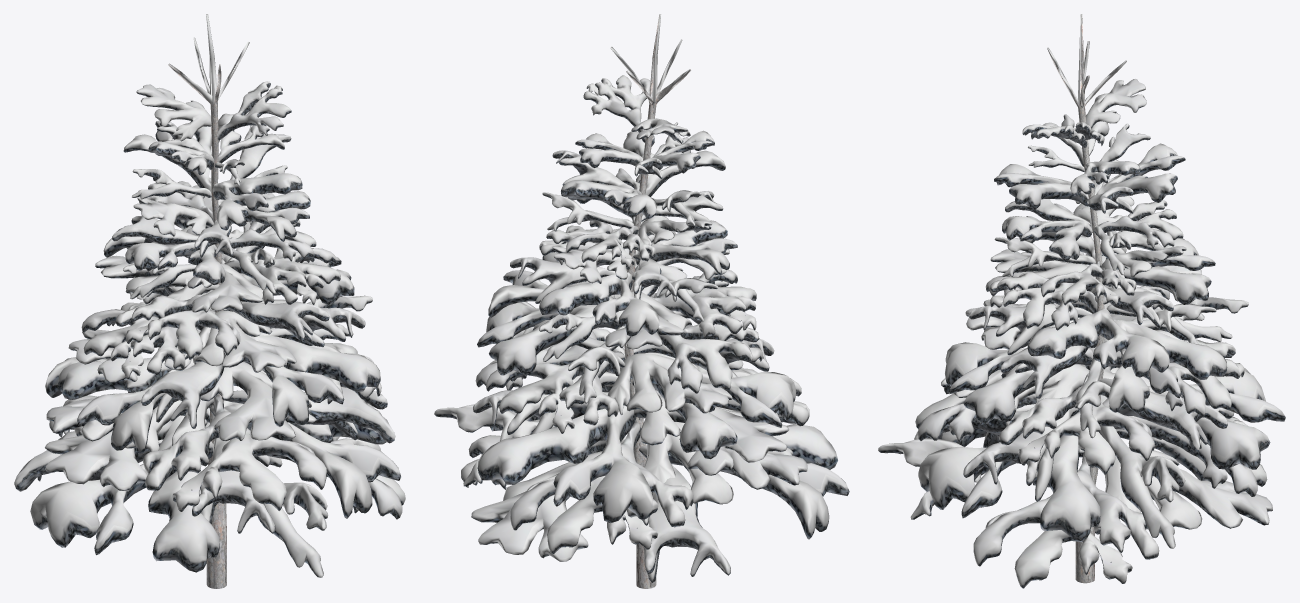
File: blue_pine_under_snow.glb
The picture shows the model from 3 angles, left to right: view 1: azimuth 30°, elevation 25°; view 2: azimuth 150°, elevation 25°; view 3: azimuth 270°, elevation 25°; orthographic projection. The views are drawn at different scales.
Parts seen in each view (by area): view 1: Tree; view 2: Tree; view 3: Tree.
Boxes of the visible parts, <box> form: Tree: <box>14,14,405,588</box>; Tree: <box>434,14,849,588</box>; Tree: <box>878,14,1285,588</box>.
Size of the model in its own units: 2.81 by 4.48 by 2.96.
Materials: 2 (2 with a texture image).
